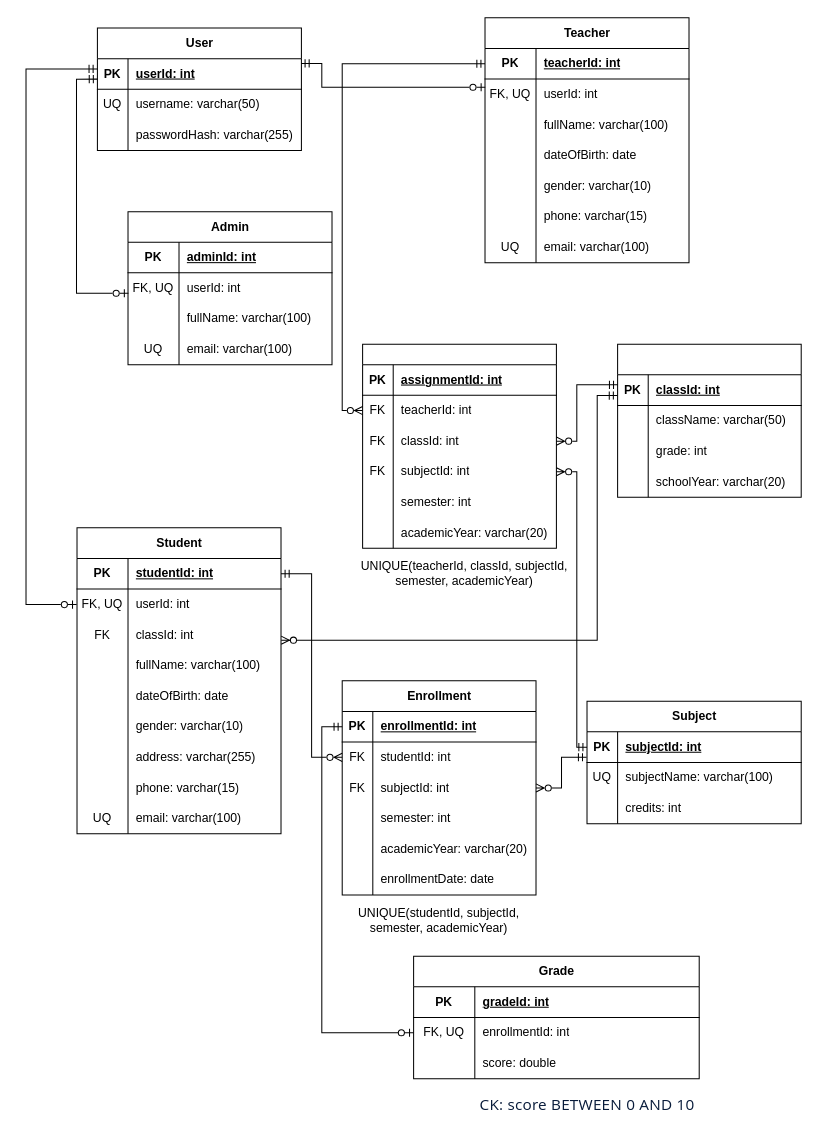
This 819x1137 diagram has some shape labels left out. The box of each missing label's shape, as (x1, y1, x2, y2) in pixels:
ClassRoom: (617, 343, 801, 497)
TeachingAssignment: (362, 343, 556, 548)
